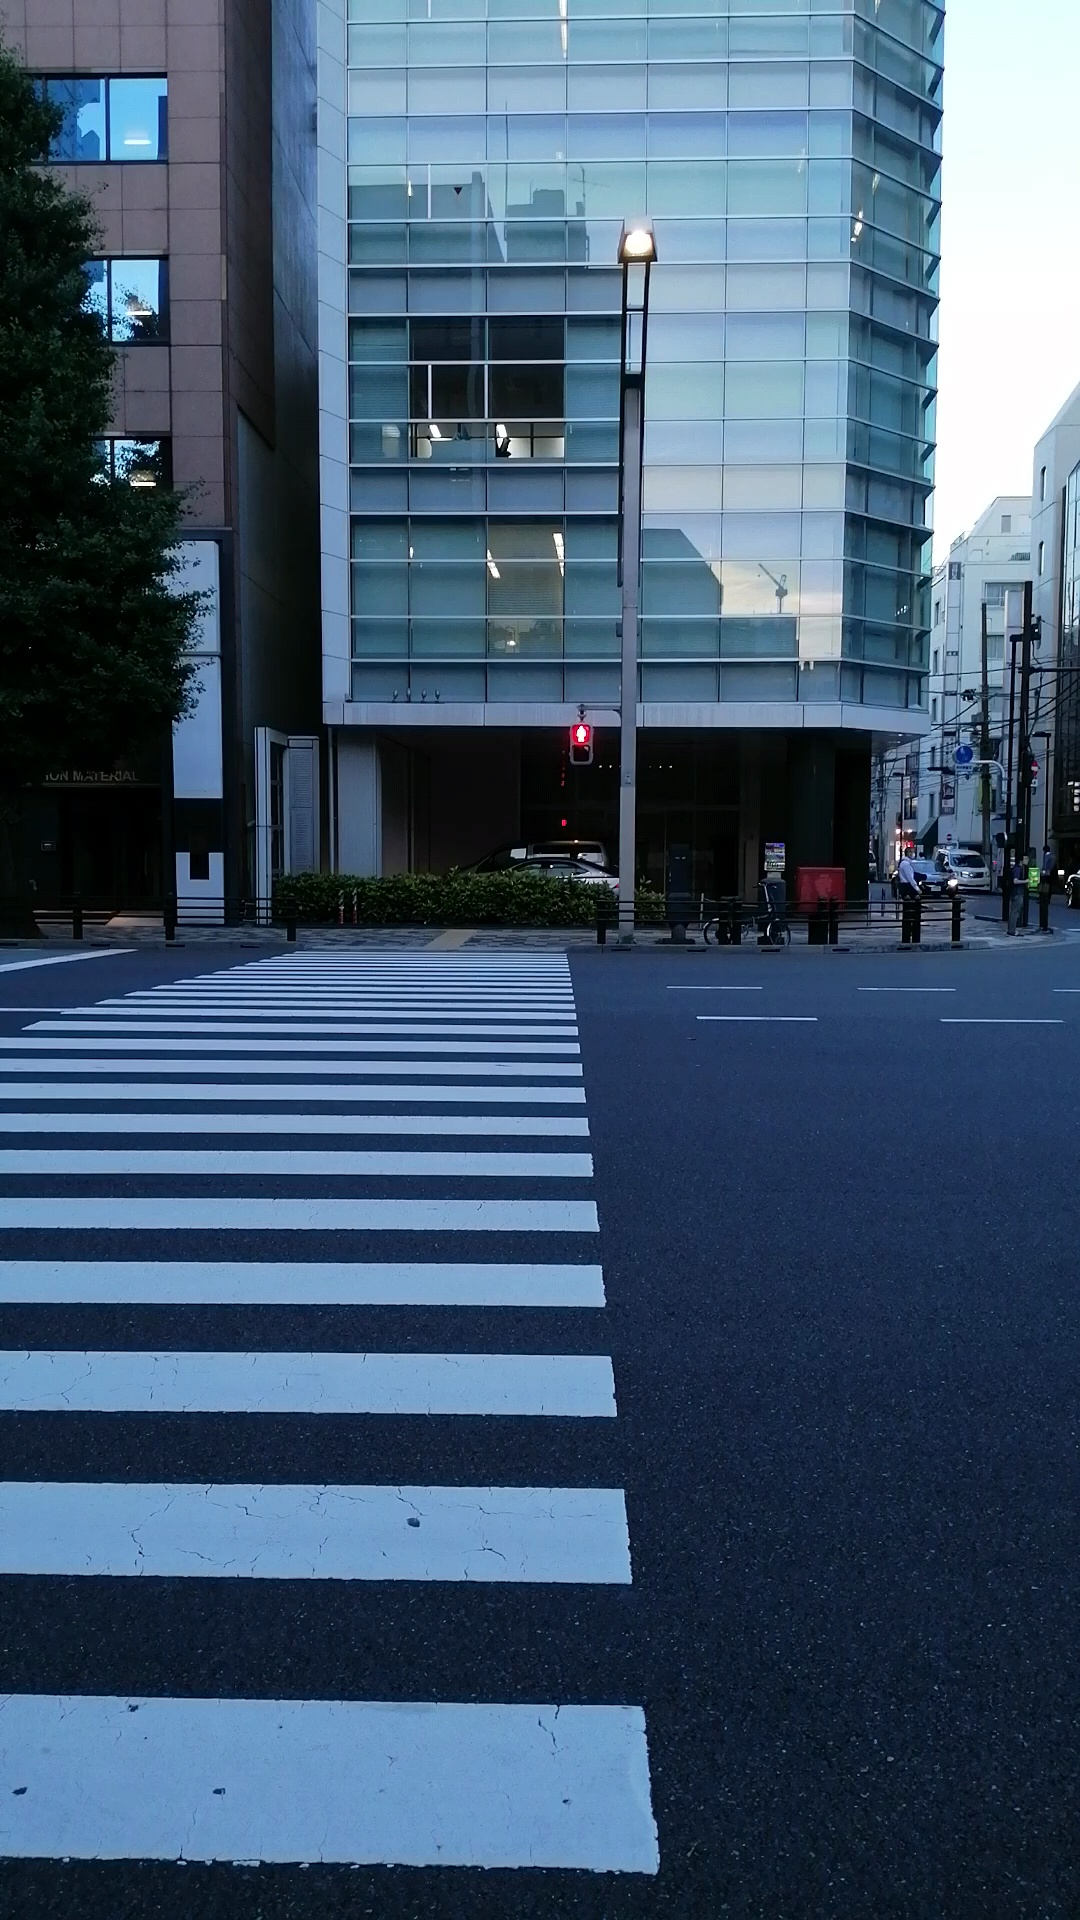red: (564, 720, 595, 767)
